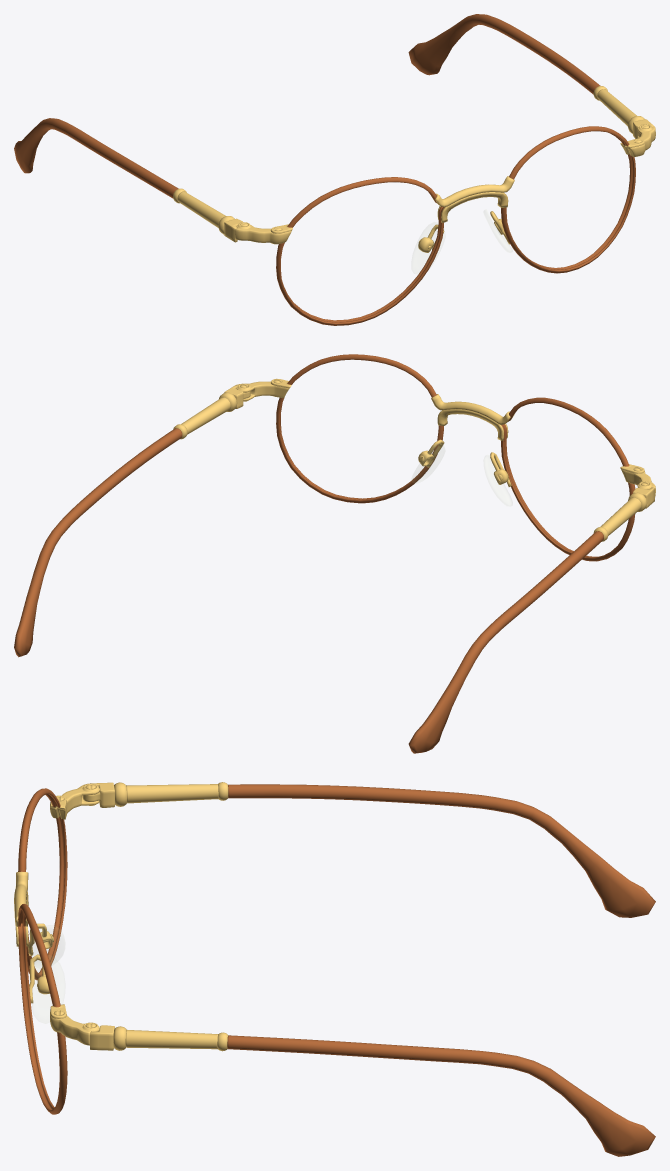
File: sunglass2.glb
3 views of the same model, one above another, from view 1: azimuth 30°, elevation 25°; view 2: azimuth 150°, elevation 25°; view 3: azimuth 270°, elevation 25° (orthographic). The views are drawn at different scales.
Visible parts, largest first — view 1: glasses_v3_03; view 2: glasses_v3_03; view 3: glasses_v3_03.
Boxes of the visible parts, left/top/right/bottom form: glasses_v3_03: left=14, top=14, right=655, bottom=325; glasses_v3_03: left=14, top=354, right=655, bottom=753; glasses_v3_03: left=14, top=782, right=655, bottom=1156.
Bounding box in the file's own units: 0.1532 × 0.0485 × 0.1585.
